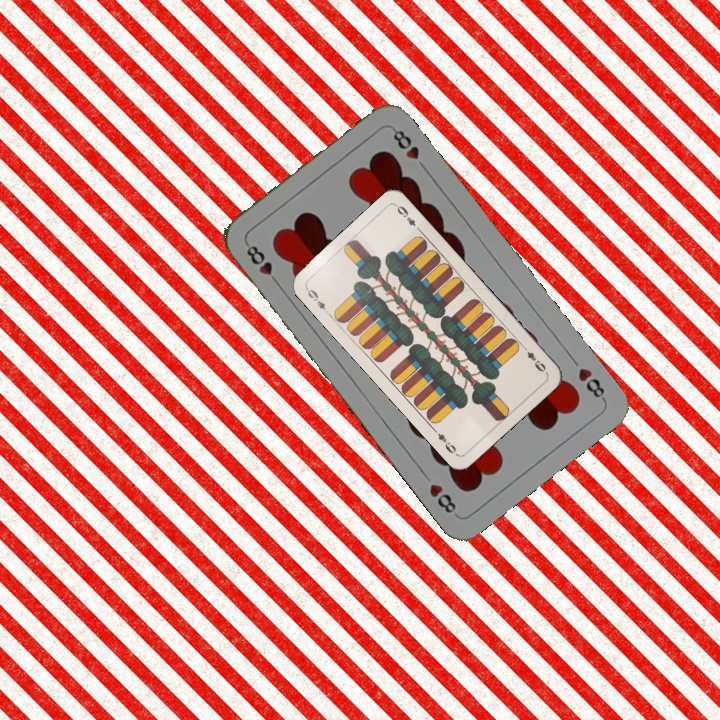E9: (518, 342, 549, 375), (302, 284, 332, 317)
H8: (241, 238, 283, 289), (574, 363, 609, 404)
